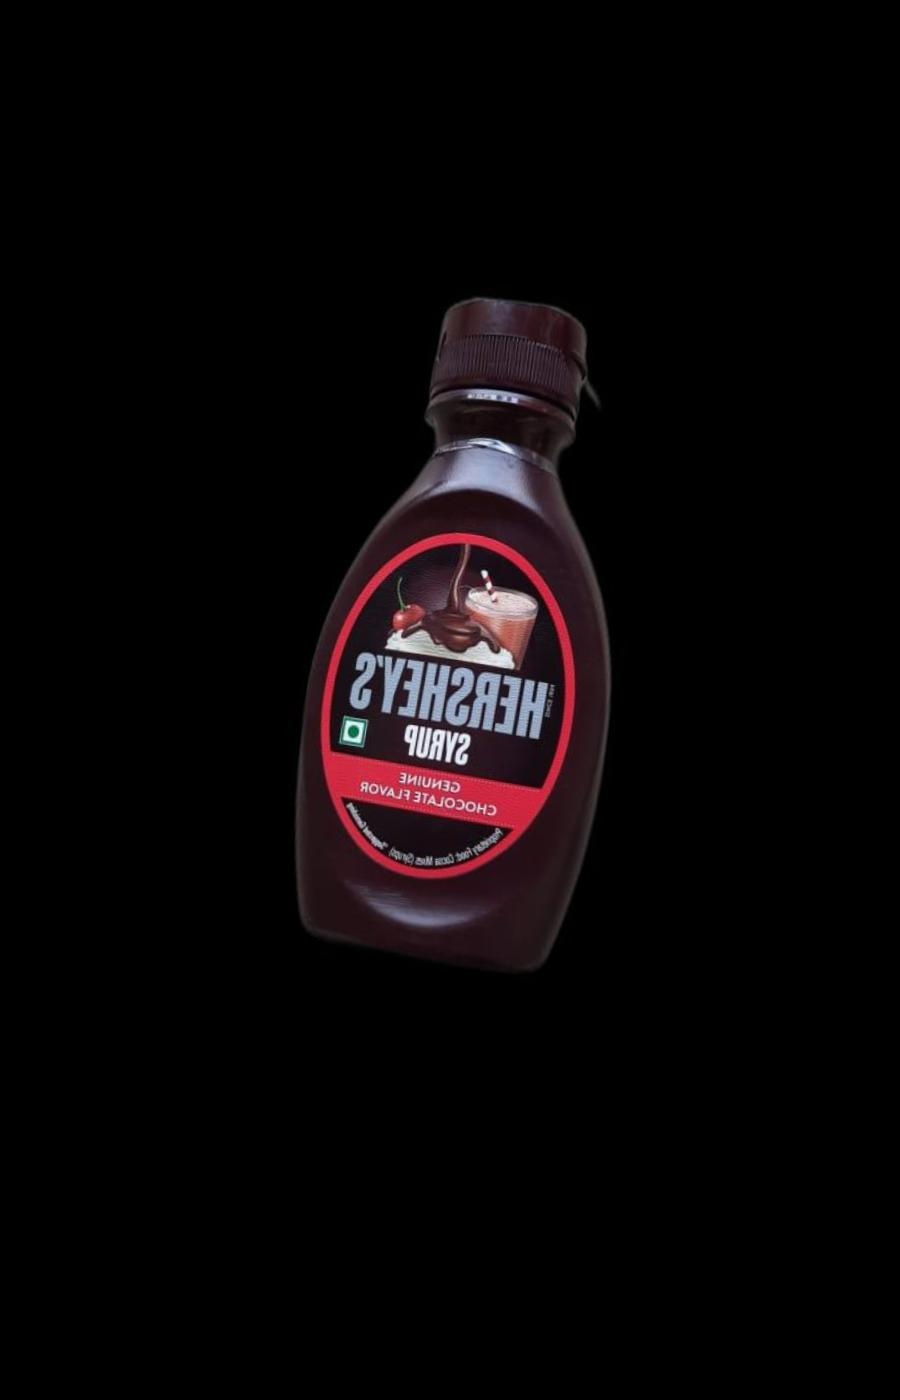HERSHEY-S Chocolate Flavored Syrup 200g: (264, 254, 681, 978)
